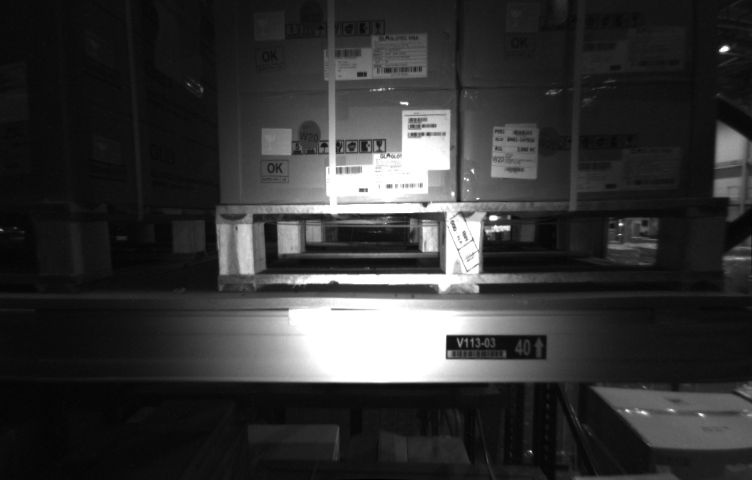True Barcode: (491, 123, 539, 178), (1, 130, 30, 172)
